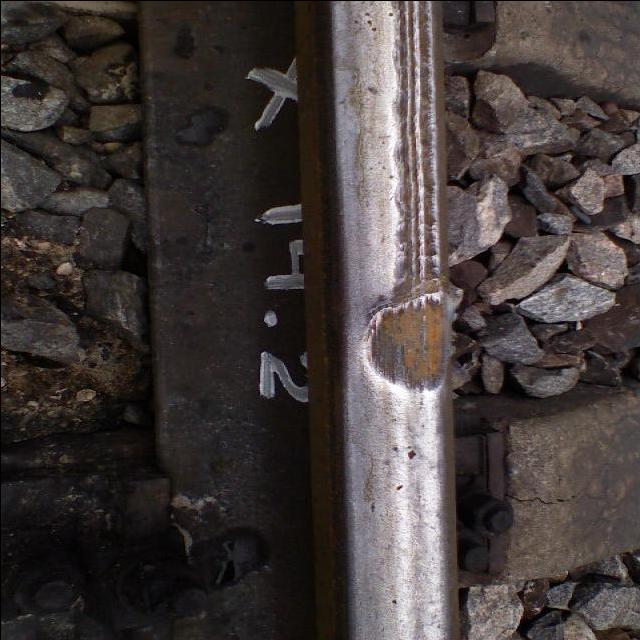broken_rail_medium: (351, 11, 381, 31), (404, 449, 420, 461), (366, 84, 380, 96), (393, 482, 405, 492), (369, 501, 377, 515), (388, 597, 401, 605), (390, 444, 400, 454)
head_checks_high: (353, 277, 451, 395)
